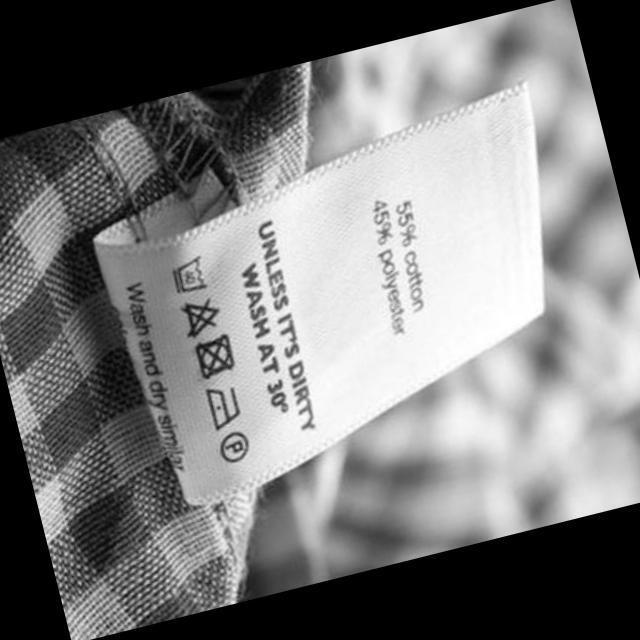40C: (165, 252, 212, 300)
DN_bleach: (174, 294, 226, 342)
DN_tumble_dry: (190, 330, 240, 383)
iron_low: (200, 380, 247, 436)
normal_dry_clean_solvents: (214, 428, 255, 468)
